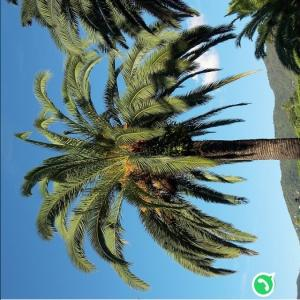palm tree: (6, 0, 299, 293)
